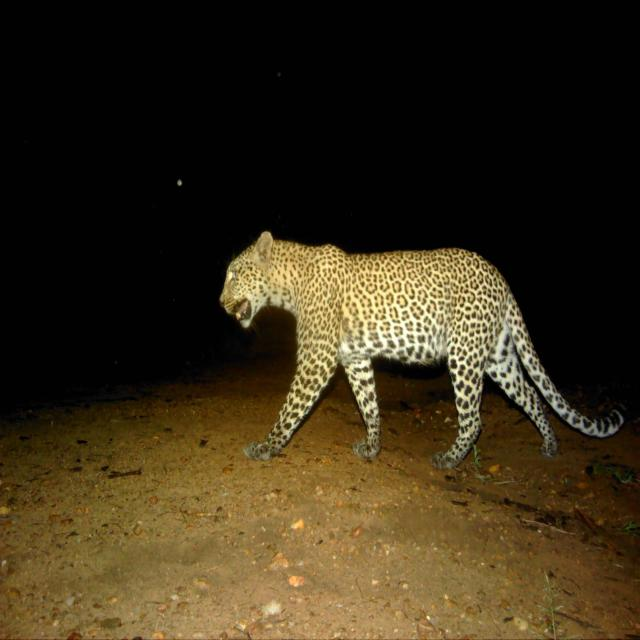Leopard: (222, 239, 620, 485)
